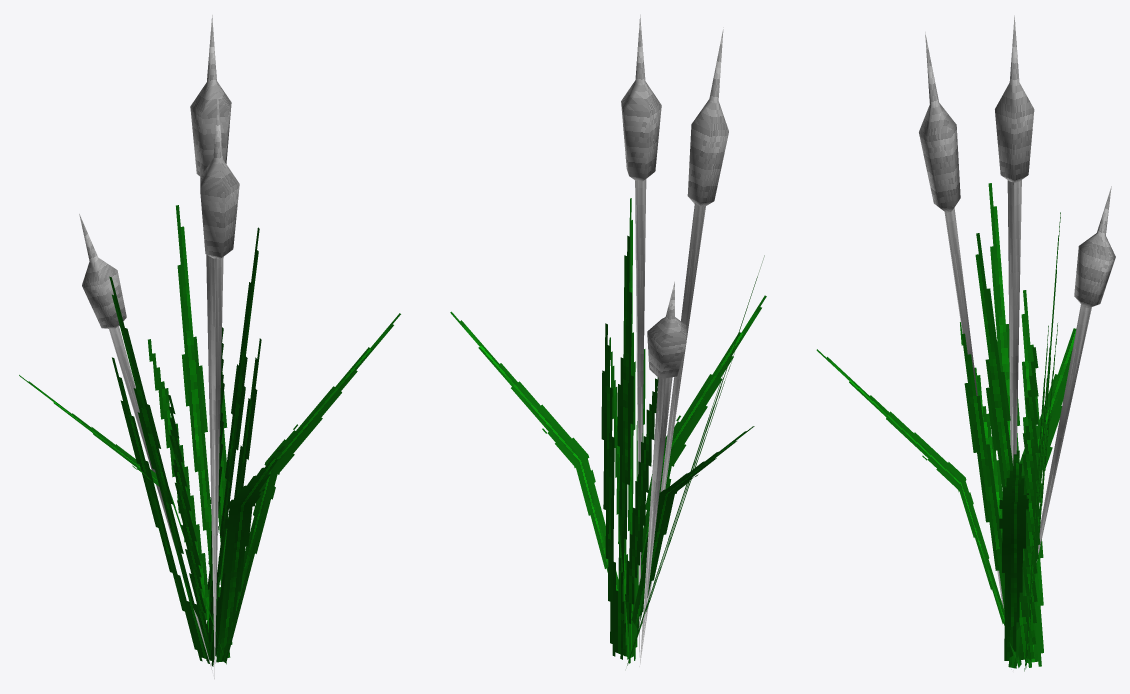
File: reed.obj
3 views of the same model, side by side, from view 1: azimuth 30°, elevation 25°; view 2: azimuth 150°, elevation 25°; view 3: azimuth 270°, elevation 25° (orthographic).
Visible parts, largest first — view 1: Duplicate02, Duplicate01, Box01, Duplicate04, Duplicate03, Cylinder02, Duplicate05, Sphere02, Duplicate06; view 2: Duplicate01, Duplicate03, Box01, Duplicate04, Sphere02, Cylinder02, Duplicate05, Duplicate06, Duplicate02; view 3: Box01, Duplicate03, Duplicate04, Duplicate02, Cylinder02, Sphere02, Duplicate01, Duplicate06, Duplicate05.
Boxes of the visible parts, x1,y1,x2,y2 form: Duplicate02: [109, 276, 211, 663]; Duplicate01: [148, 205, 232, 657]; Box01: [206, 227, 261, 666]; Duplicate04: [79, 214, 284, 662]; Duplicate03: [19, 94, 239, 664]; Cylinder02: [222, 313, 400, 663]; Duplicate05: [210, 257, 223, 678]; Sphere02: [190, 15, 231, 176]; Duplicate06: [109, 325, 213, 675]; Duplicate01: [601, 235, 658, 659]; Duplicate03: [626, 27, 754, 647]; Box01: [609, 179, 646, 663]; Duplicate04: [625, 281, 766, 656]; Sphere02: [621, 14, 661, 181]; Cylinder02: [450, 311, 618, 591]; Duplicate05: [640, 203, 705, 664]; Duplicate06: [639, 377, 672, 666]; Duplicate02: [627, 255, 764, 665]; Box01: [961, 180, 1040, 664]; Duplicate03: [919, 32, 1076, 668]; Duplicate04: [816, 186, 1115, 667]; Duplicate02: [960, 183, 1043, 667]; Cylinder02: [999, 450, 1028, 660]; Sphere02: [995, 15, 1034, 182]; Duplicate01: [1024, 212, 1060, 671]; Duplicate06: [1013, 304, 1091, 670]; Duplicate05: [944, 208, 1011, 669].
Size of the model in its own units: 19.87 by 35.58 by 14.94.
